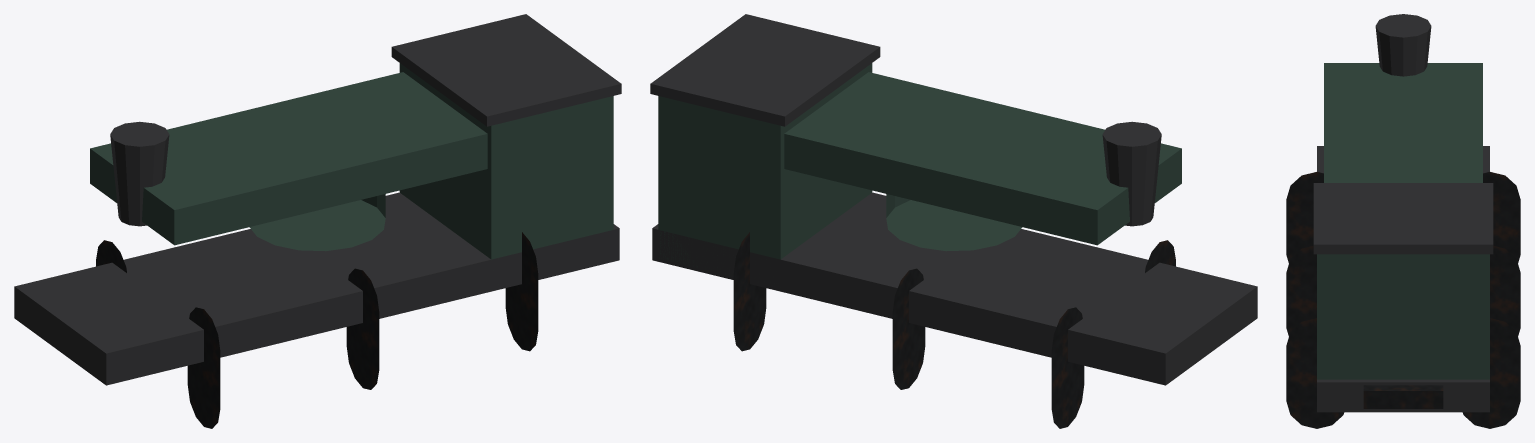
Rendered from B_loco.glb.
The picture shows the model from 3 angles, left to right: view 1: azimuth 30°, elevation 25°; view 2: azimuth 150°, elevation 25°; view 3: azimuth 270°, elevation 25°; orthographic projection. The views are drawn at different scales.
Parts seen in each view (by area): view 1: B_loco; view 2: B_loco; view 3: B_loco.
Part boxes in pixels (bbox=[...]): B_loco: bbox=[14, 14, 621, 428]; B_loco: bbox=[650, 14, 1257, 428]; B_loco: bbox=[1286, 14, 1520, 428].
Bounding box in the file's own units: 8.6 × 4.12 × 3.52.
4 materials, 1 textured.
